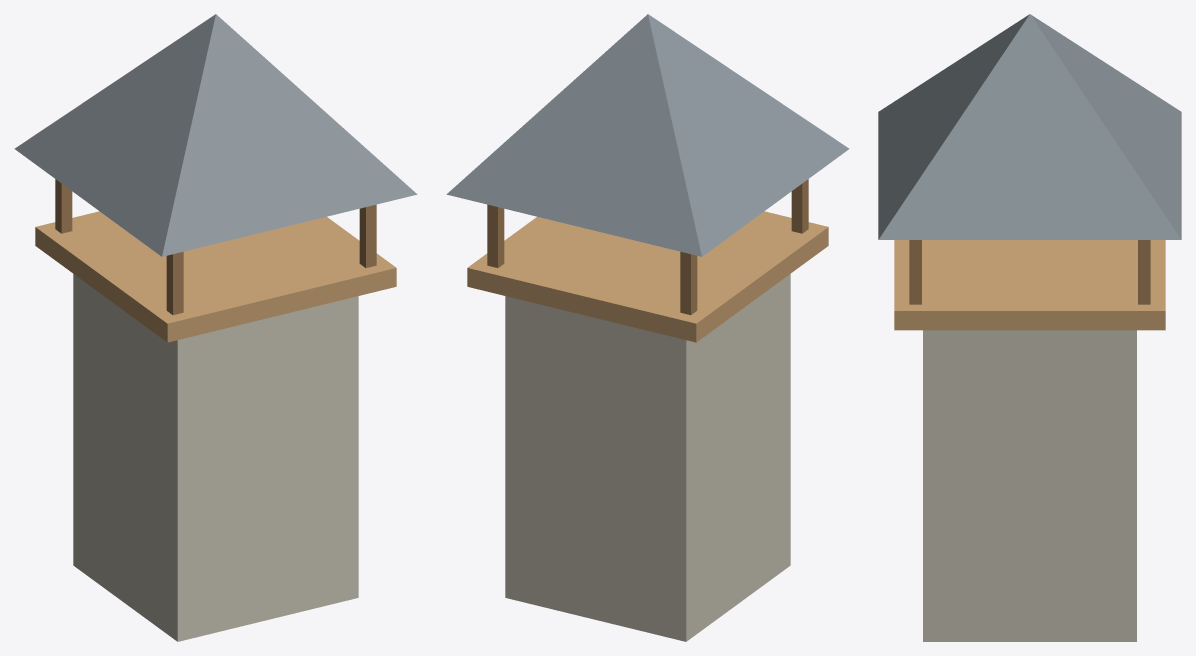
Rendered from arrow-tower.glb.
3 views of the same model, side by side, from view 1: azimuth 30°, elevation 25°; view 2: azimuth 150°, elevation 25°; view 3: azimuth 270°, elevation 25° (orthographic). The views are drawn at different scales.
Visible parts, largest first — view 1: arrow-tower; view 2: arrow-tower; view 3: arrow-tower.
Part boxes in pixels (x1,y1,x2,y2): arrow-tower: (14, 14, 417, 641); arrow-tower: (446, 14, 849, 641); arrow-tower: (878, 14, 1181, 641).
Size of the model in its own units: 4.24 by 9 by 4.24.
